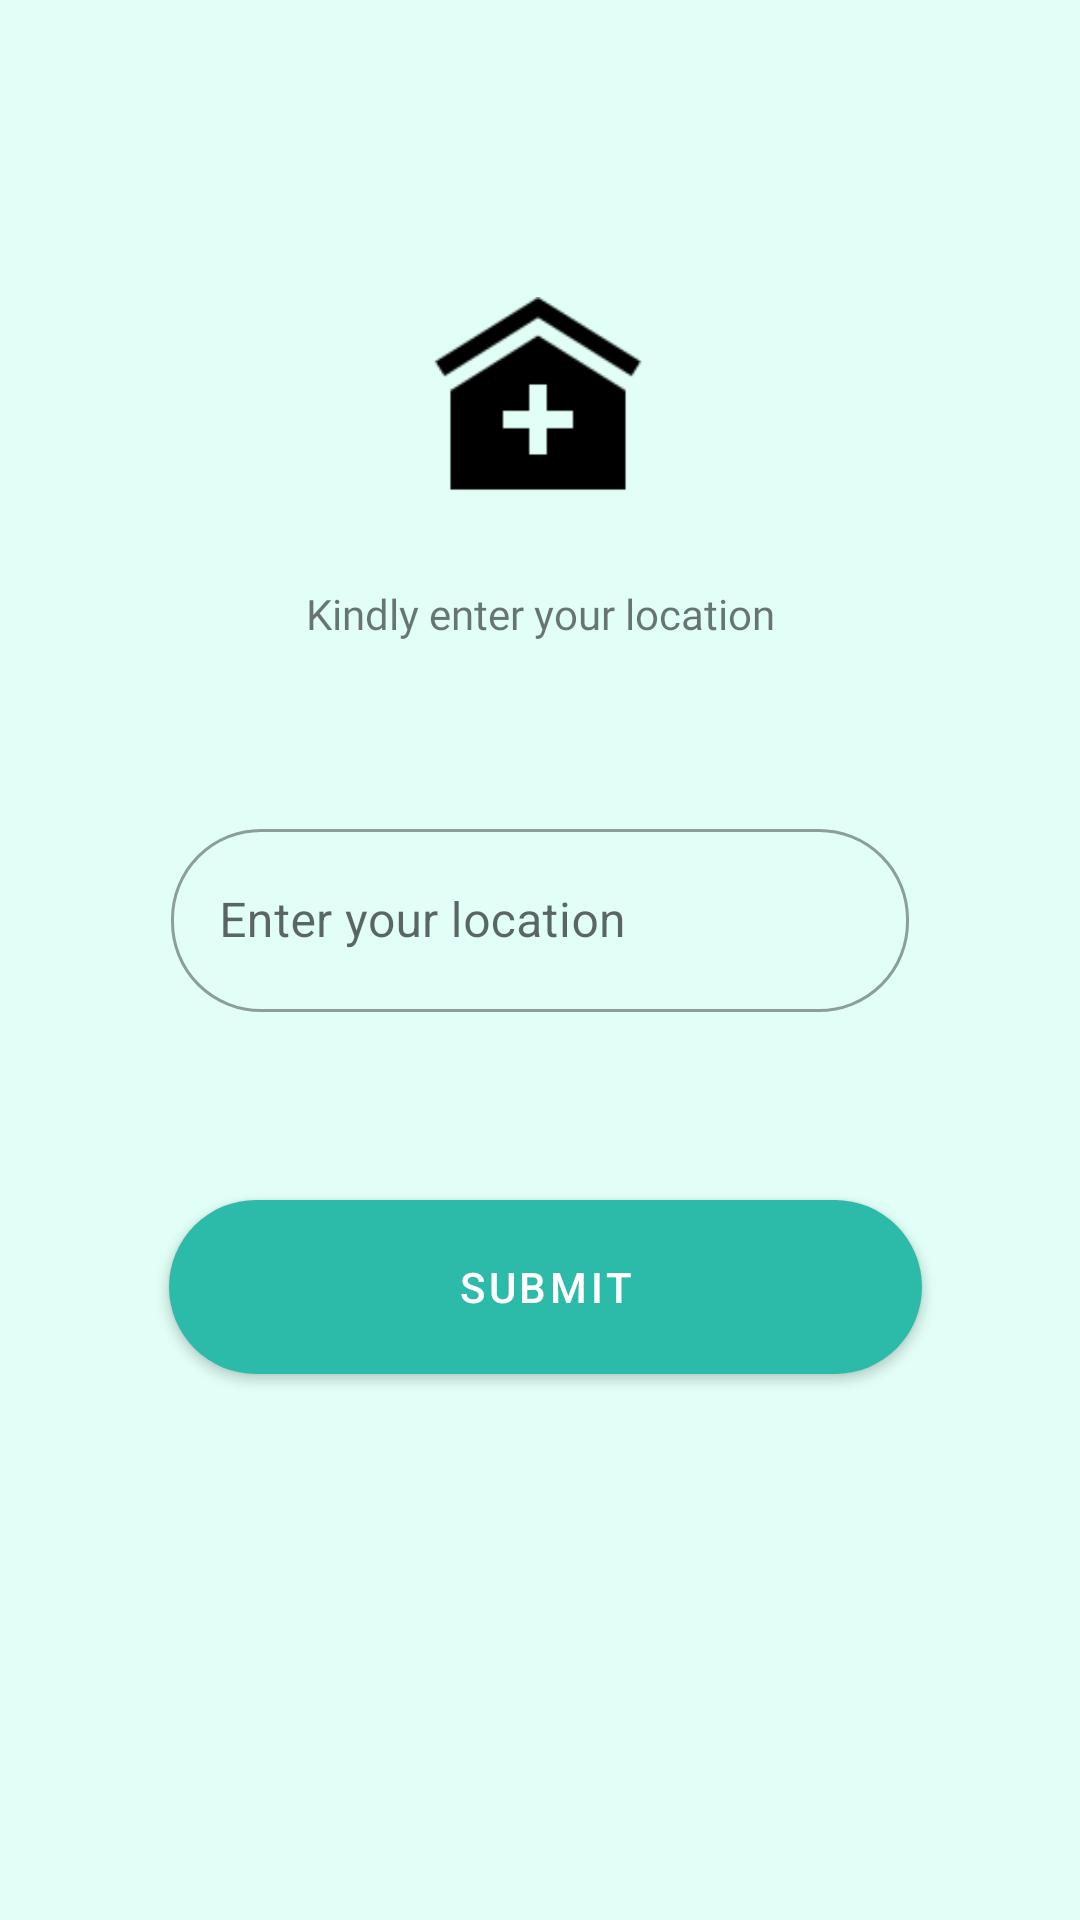

Icons on this 1080 × 1920 Android screen, each with the point to tap as (x,y):
clinic: (538,393)
